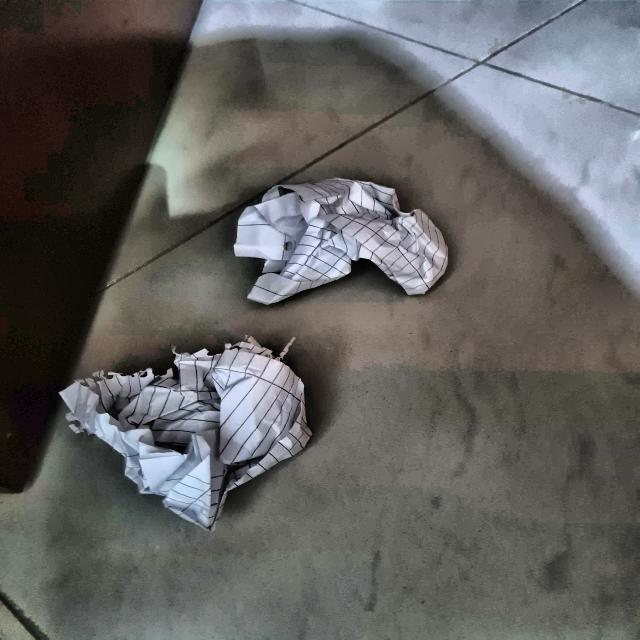Paper: (64, 326, 318, 518), (240, 178, 453, 300)
